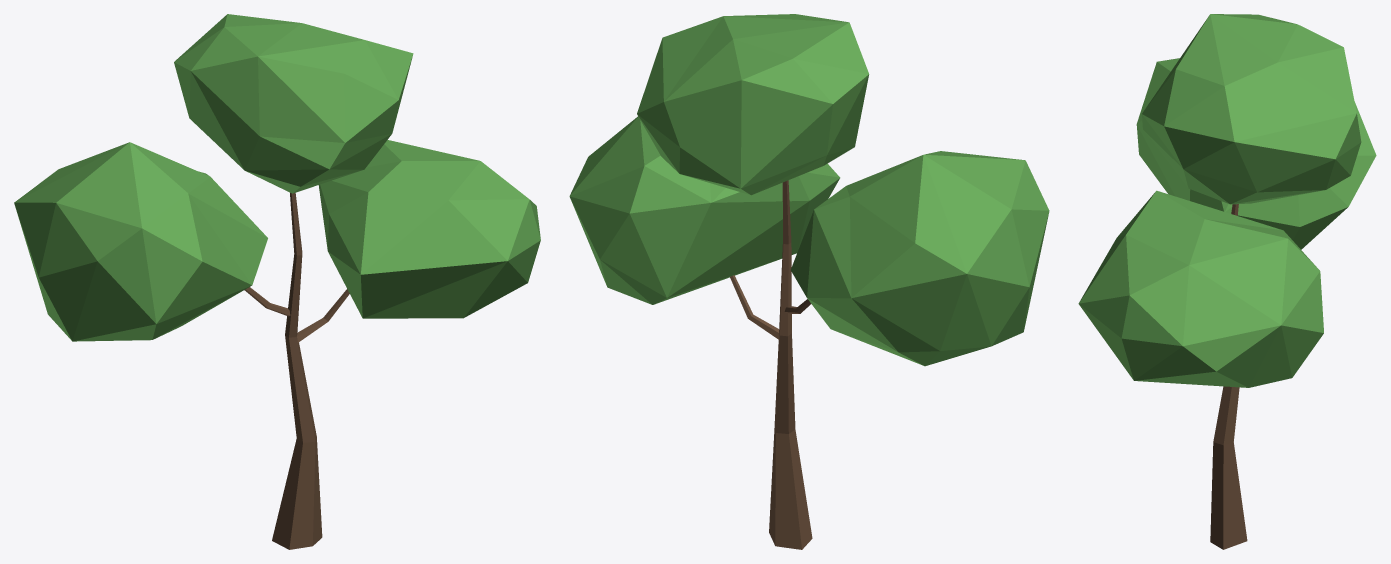
File: GLB_Arbol_01.glb
The picture shows the model from 3 angles, left to right: view 1: azimuth 30°, elevation 25°; view 2: azimuth 150°, elevation 25°; view 3: azimuth 270°, elevation 25°; orthographic projection. The views are drawn at different scales.
Visible parts, largest first — view 1: Arbol_01_00; view 2: Arbol_01_00; view 3: Arbol_01_00.
Part boxes in pixels (bbox=[...]): Arbol_01_00: bbox=[14, 14, 540, 549]; Arbol_01_00: bbox=[569, 14, 1049, 549]; Arbol_01_00: bbox=[1078, 14, 1376, 549].
Size of the model in its own units: 8.55 by 8.92 by 4.8.
Materials: 1 (1 with a texture image).
